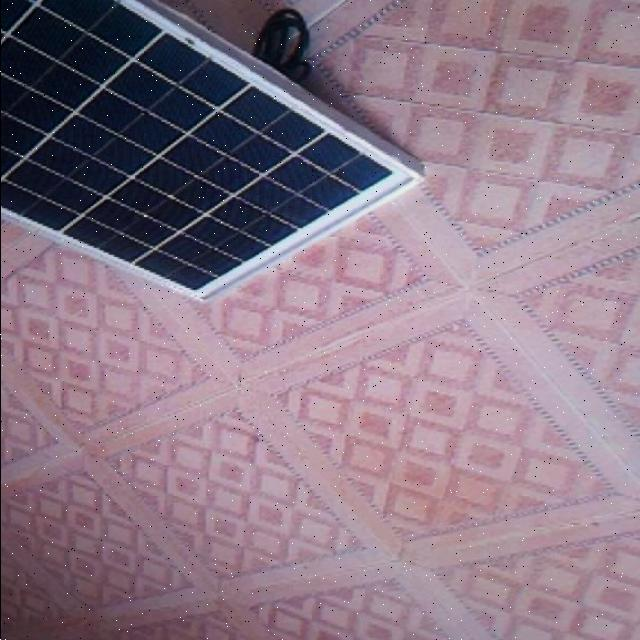Normal Solar Panel: (0, 0, 421, 296)
